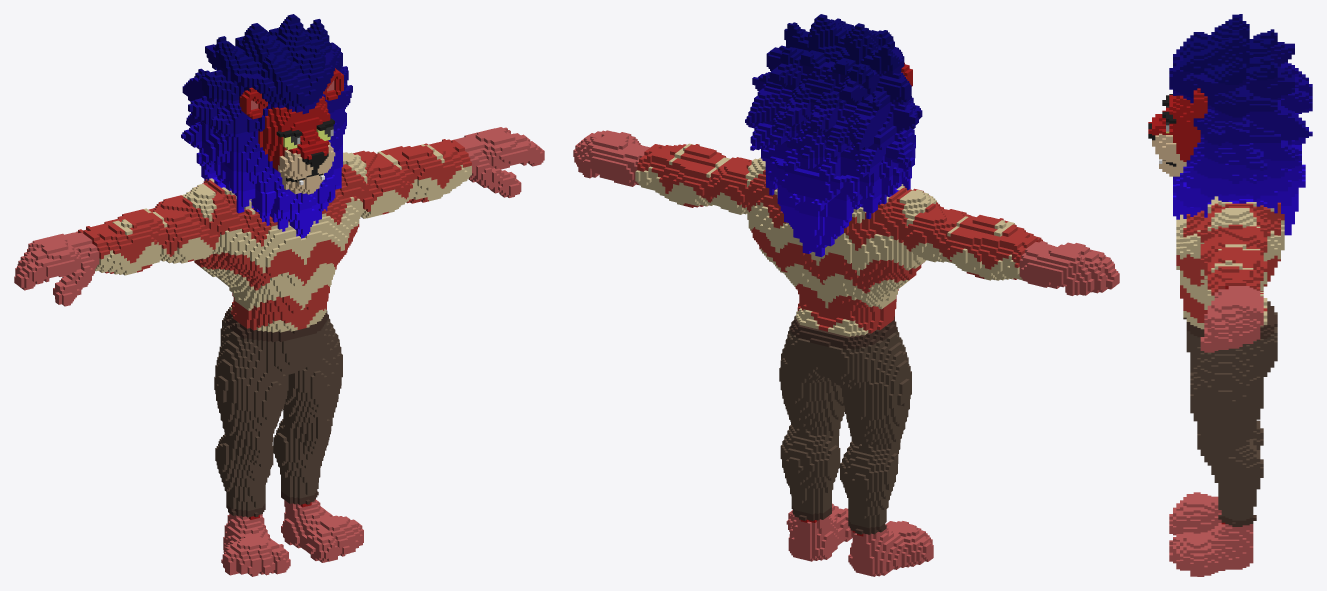
File: 823-DycOkaO8.fbx
The picture shows the model from 3 angles, left to right: view 1: azimuth 30°, elevation 25°; view 2: azimuth 150°, elevation 25°; view 3: azimuth 270°, elevation 25°; orthographic projection. The views are drawn at different scales.
Parts seen in each view (by area): view 1: standard; view 2: standard; view 3: standard.
Part boxes in pixels (bbox=[...]): standard: bbox=[14, 14, 544, 576]; standard: bbox=[573, 14, 1119, 576]; standard: bbox=[1148, 14, 1312, 576].
Bounding box in the file's own units: 17.2 × 16.5 × 4.7.
5 materials, 5 textured.
